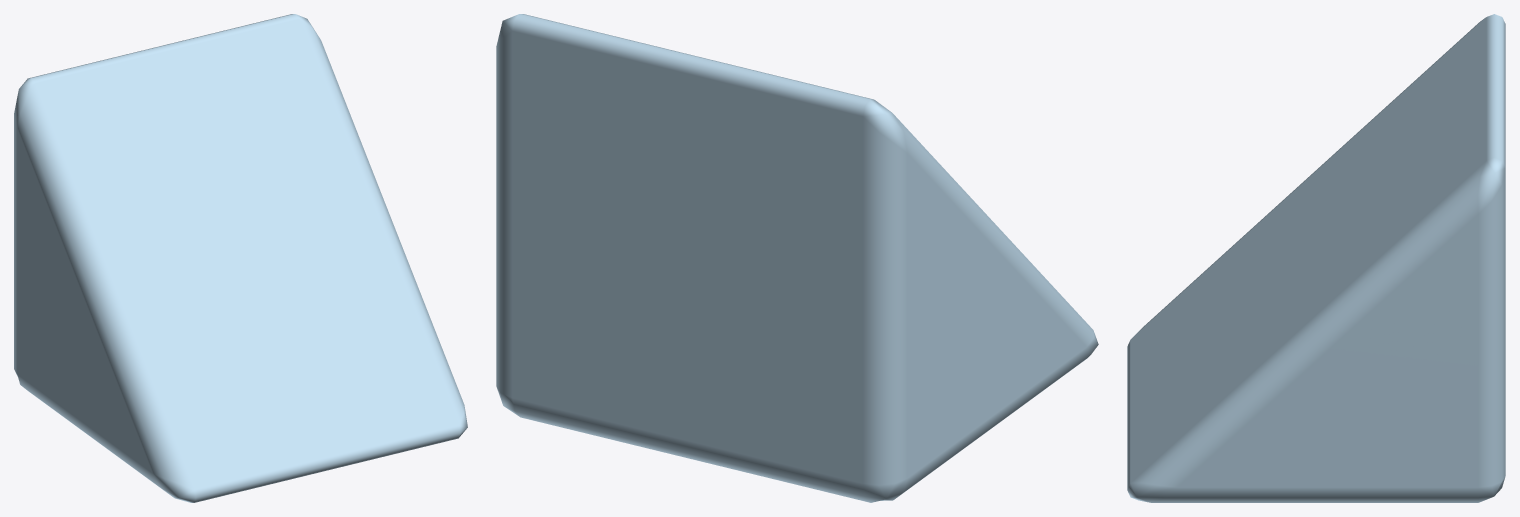
Rendered from R4B_Wedge.fbx.
3 views of the same model, side by side, from view 1: azimuth 30°, elevation 25°; view 2: azimuth 150°, elevation 25°; view 3: azimuth 270°, elevation 25° (orthographic). The views are drawn at different scales.
Visible parts, largest first — view 1: R4B_Wedge; view 2: R4B_Wedge; view 3: R4B_Wedge.
Boxes of the visible parts, <box> form: R4B_Wedge: <box>14,14,467,502</box>; R4B_Wedge: <box>496,14,1098,502</box>; R4B_Wedge: <box>1127,14,1505,502</box>.
Bounding box in the file's own units: 0.52 × 0.4989 × 0.4989.
